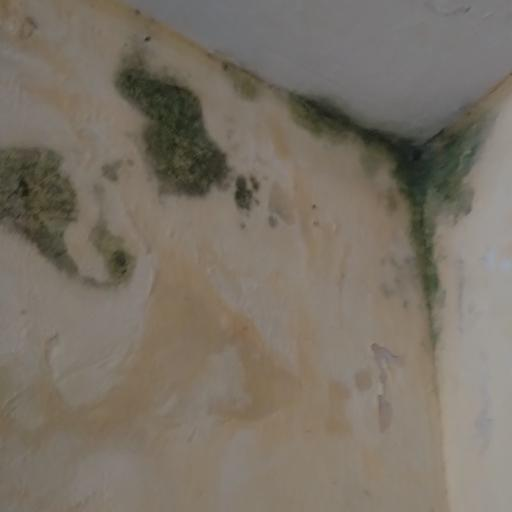algae: (2, 0, 512, 341)
